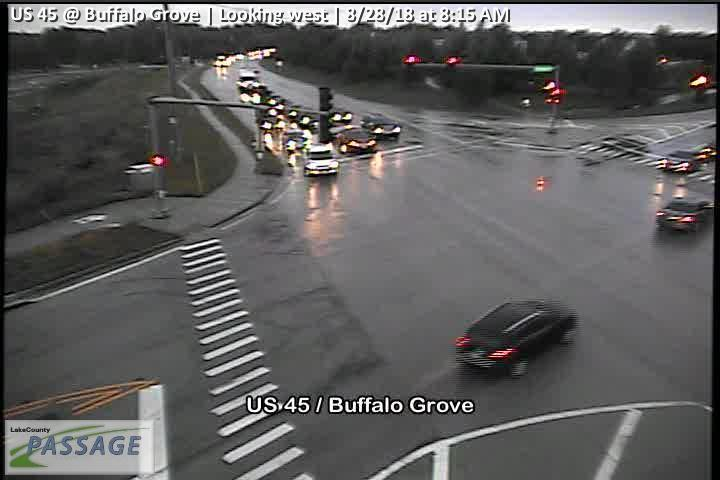SUV: (302, 140, 340, 178), (361, 112, 402, 139), (237, 66, 261, 93), (279, 129, 307, 150)
Sedan: (453, 295, 581, 378), (654, 196, 715, 235), (339, 127, 377, 153), (661, 150, 698, 176), (330, 105, 355, 123)
